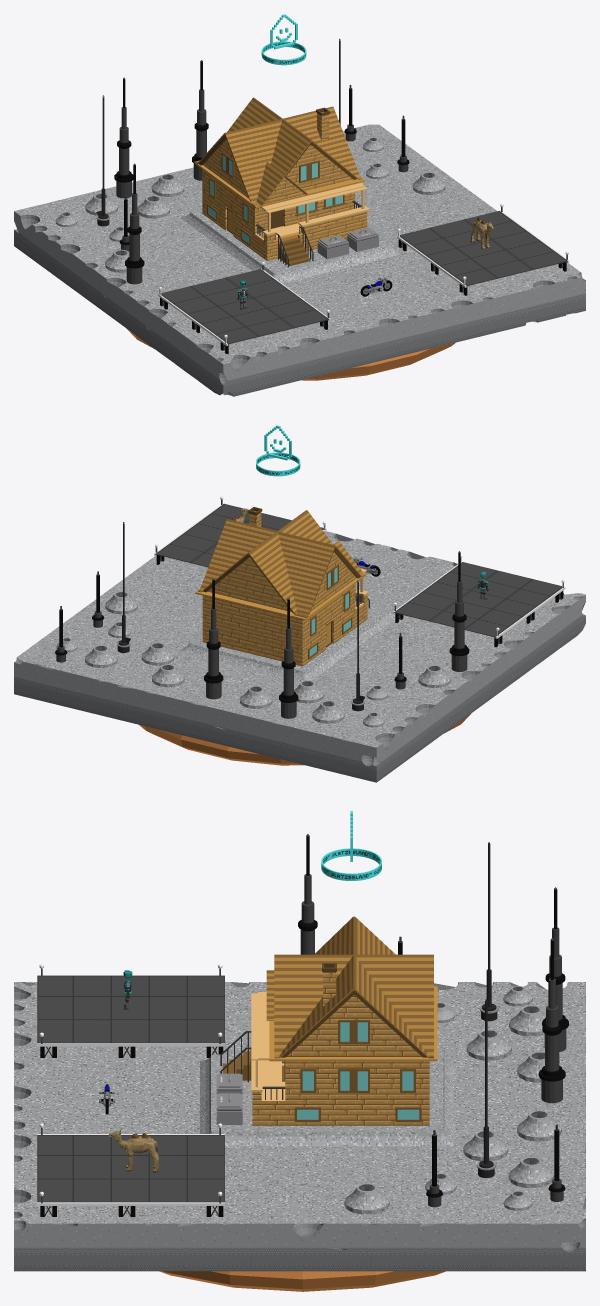
The picture shows the model from 3 angles, top to bottom: view 1: azimuth 30°, elevation 25°; view 2: azimuth 150°, elevation 25°; view 3: azimuth 270°, elevation 25°; orthographic projection. The views are drawn at different scales.
Visible parts, largest first — view 1: Cube.027, Cube.508, Cube.025, Cube.026, Cube.028, UNDERGROUND_PIZZA, Cylinder.021, Cylinder.020, Cylinder.017, TYPE_PREMIUM, Cube.029, Cube.030 (+4 smaller); view 2: Cube.027, Cube.508, Cube.025, Cube.028, Cube.026, UNDERGROUND_PIZZA, Cylinder.021, Cylinder.020, Cylinder.017, TYPE_PREMIUM, Cylinder.030, Cylinder.027 (+6 smaller); view 3: Cube.027, Cube.508, Cube.025, Cube.026, Cube.028, UNDERGROUND_PIZZA, Cylinder.017, Cylinder.020, Cylinder.021, TYPE_PREMIUM, Cylinder.033, Cylinder.031 (+10 smaller).
Boxes of the visible parts, x1,y1,x2,y2 form: Cube.027: (14,124,585,396); Cube.508: (194,97,369,267); Cube.025: (158,262,330,353); Cube.026: (397,203,569,295); Cube.028: (181,209,400,283); UNDERGROUND_PIZZA: (126,328,455,380); Cylinder.021: (125,163,144,284); Cylinder.020: (114,77,133,198); Cylinder.017: (192,60,208,180); TYPE_PREMIUM: (261,14,306,65); Cube.029: (317,235,348,259); Cube.030: (347,227,378,251); Cube.027: (14,531,585,782); Cube.508: (195,507,369,666); Cube.025: (393,555,565,647); Cube.028: (179,604,395,682); Cube.026: (154,496,326,567); UNDERGROUND_PIZZA: (139,714,470,765); Cylinder.021: (449,551,469,671); Cylinder.020: (279,598,298,718); Cylinder.017: (204,578,223,699); TYPE_PREMIUM: (256,425,300,476); Cylinder.030: (141,642,174,665); Cylinder.027: (240,686,272,708); Cube.027: (14,982,585,1271); Cube.508: (220,916,437,1125); Cube.025: (37,964,224,1057); Cube.026: (37,1123,224,1216); Cube.028: (200,1054,454,1146); UNDERGROUND_PIZZA: (159,1271,445,1291); Cylinder.017: (538,938,565,1103); Cylinder.020: (542,887,568,1051); Cylinder.021: (298,834,317,954); TYPE_PREMIUM: (321,811,381,880); Cylinder.033: (344,1183,389,1214); Cylinder.031: (508,1157,553,1187).
Bounding box in the file's own units: 4000 × 2915 × 4000.
Materials: 41 (6 with a texture image).
